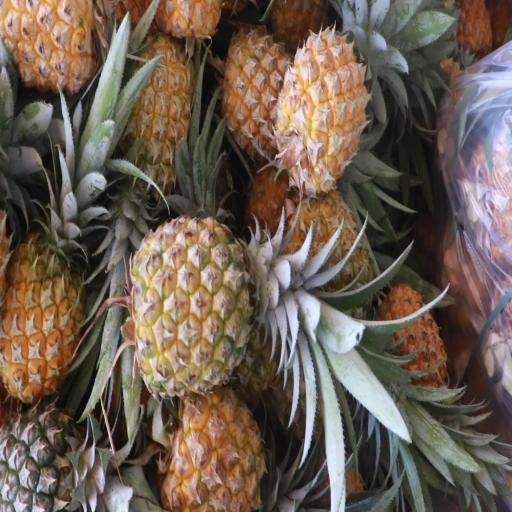------------------------------: (122, 216, 318, 392)
Pineapple - v8 v1: (0, 147, 86, 410), (156, 383, 318, 512), (271, 38, 385, 193), (115, 36, 194, 194), (220, 27, 286, 145)
